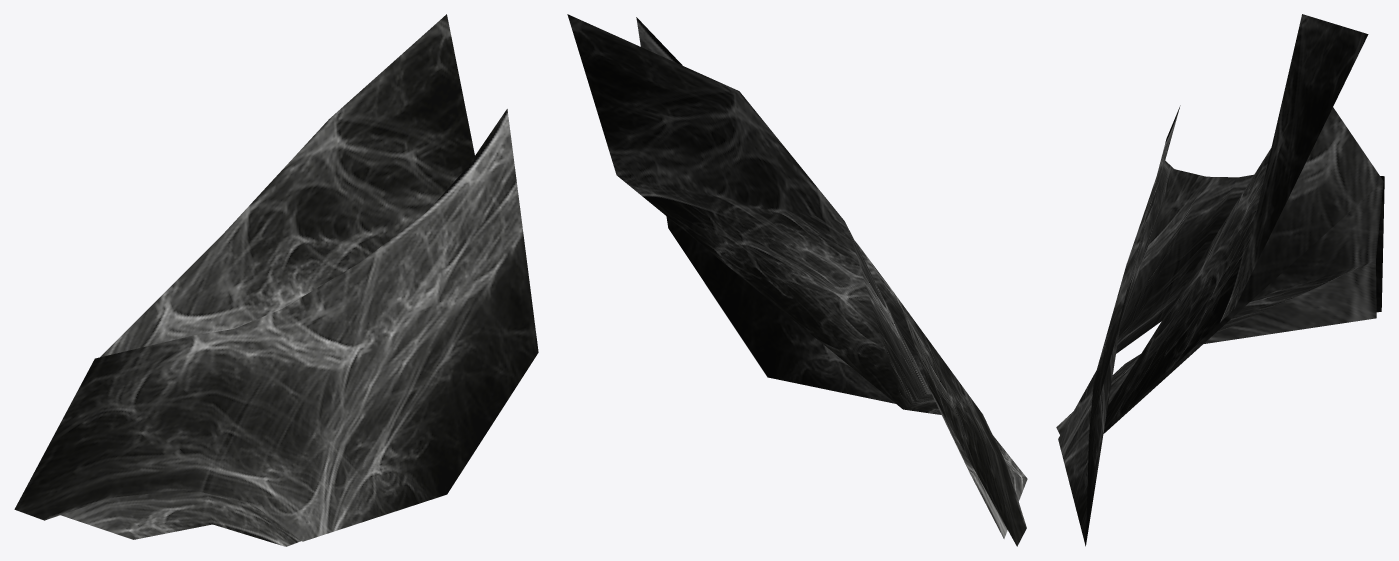
File: SM_CobwebB.FBX
3 views of the same model, side by side, from view 1: azimuth 30°, elevation 25°; view 2: azimuth 150°, elevation 25°; view 3: azimuth 270°, elevation 25° (orthographic). The views are drawn at different scales.
Visible parts, largest first — view 1: SM_CobwebB; view 2: SM_CobwebB; view 3: SM_CobwebB.
Part boxes in pixels (bbox=[...]): SM_CobwebB: bbox=[14, 14, 538, 546]; SM_CobwebB: bbox=[567, 14, 1027, 546]; SM_CobwebB: bbox=[1056, 14, 1384, 546].
Size of the model in its own units: 36.72 by 32.32 by 16.3.
